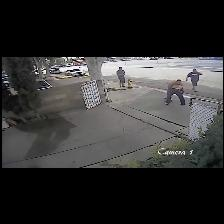person: (166, 85, 185, 105), (186, 69, 202, 91), (167, 80, 183, 94), (117, 67, 125, 87)
